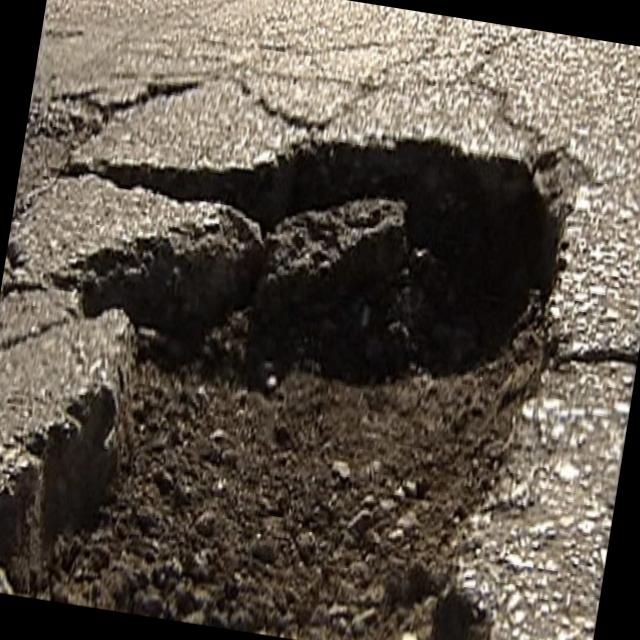Potholes: (0, 25, 638, 640)
